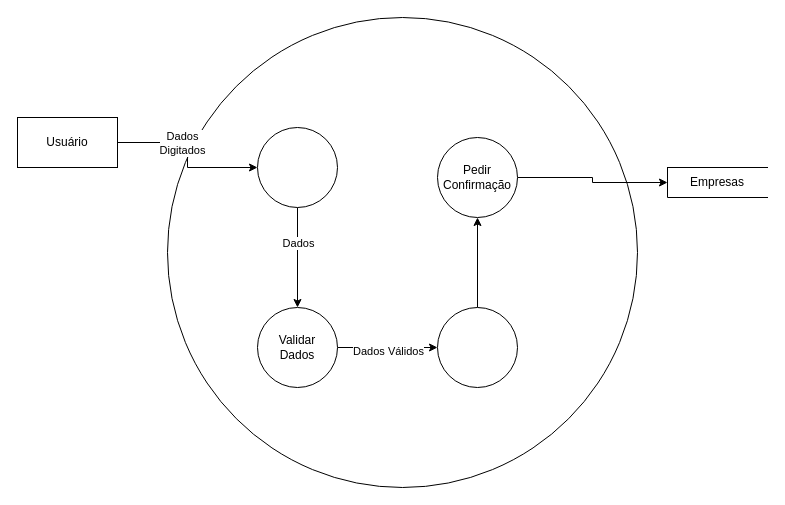
Image size: 785x505. Some labels were removed from this diagram. Here are the shapes that lost their labels. From the top down, the centre of each, then its label:
point 297,167: Receber Dados
point 477,347: Gravar no BD de Empresas
